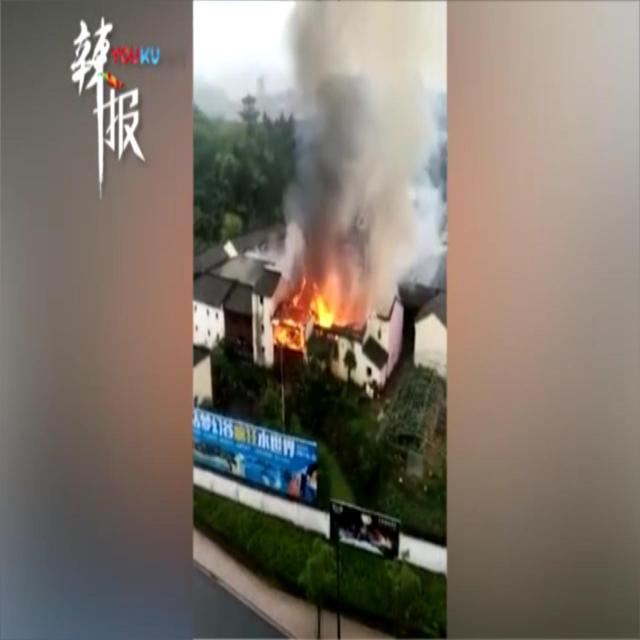Fire: (272, 290, 335, 352)
Smoke: (284, 0, 448, 297)
